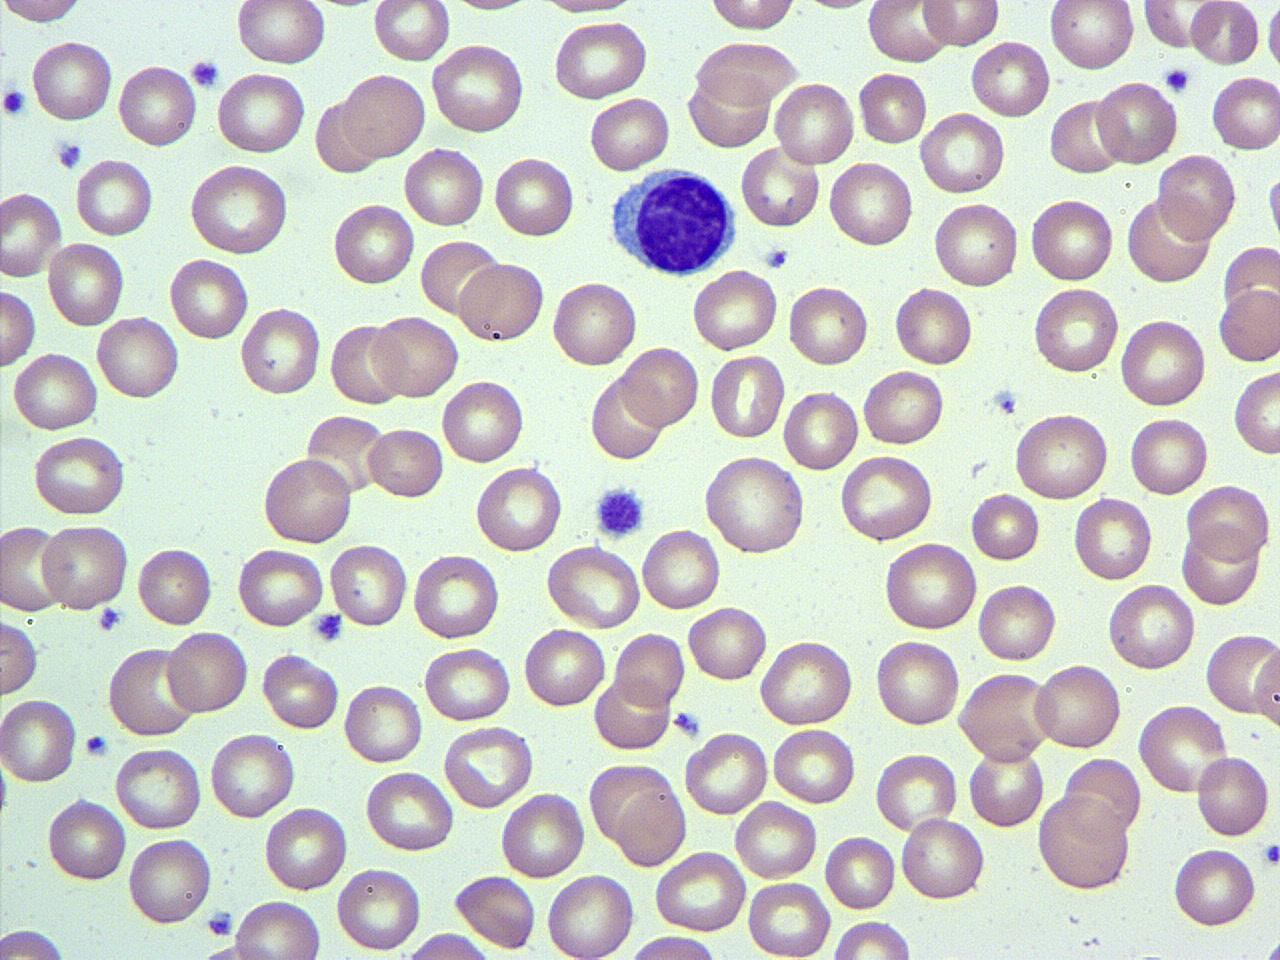Platelets: (592, 483, 646, 538), (1262, 0, 1280, 72), (51, 133, 84, 172), (1265, 165, 1280, 247), (312, 608, 344, 645), (204, 906, 237, 939), (189, 57, 222, 90), (2, 84, 31, 121), (990, 385, 1020, 417), (1162, 64, 1190, 94), (762, 244, 790, 272), (97, 604, 123, 634), (82, 732, 111, 758), (1260, 840, 1280, 868)
RBC: (703, 452, 807, 558), (1036, 790, 1134, 894), (188, 160, 292, 257), (429, 39, 529, 135), (958, 667, 1055, 765), (1136, 700, 1232, 798), (836, 452, 938, 544), (882, 538, 980, 633), (1012, 409, 1112, 502), (1029, 659, 1123, 755), (758, 636, 856, 728), (260, 453, 354, 548), (548, 276, 640, 373), (1104, 580, 1198, 674), (106, 641, 198, 737), (472, 460, 564, 556), (872, 634, 962, 732), (125, 832, 215, 930), (930, 197, 1021, 293), (38, 519, 130, 613), (1119, 314, 1209, 410), (544, 542, 644, 628), (368, 310, 461, 402), (207, 728, 299, 821), (213, 68, 308, 158), (544, 870, 638, 960), (498, 788, 588, 882), (690, 264, 782, 355), (112, 744, 205, 834), (653, 846, 750, 932), (1030, 284, 1120, 376), (411, 550, 501, 642), (826, 157, 916, 249), (262, 802, 350, 896), (588, 758, 684, 844), (1027, 195, 1117, 286), (1125, 195, 1213, 288), (440, 374, 527, 468), (30, 433, 127, 517), (340, 70, 430, 160), (9, 346, 100, 435), (440, 723, 534, 809), (682, 728, 771, 818), (917, 108, 1007, 197), (1170, 843, 1260, 932), (364, 768, 457, 854), (552, 19, 650, 100), (334, 864, 424, 952), (330, 198, 416, 290), (239, 304, 322, 399), (29, 36, 115, 127), (456, 258, 546, 344), (786, 280, 872, 370), (0, 692, 80, 788), (898, 816, 985, 904), (401, 142, 487, 231), (95, 313, 181, 402), (236, 546, 327, 630), (46, 793, 128, 886), (46, 237, 127, 331), (164, 630, 250, 718), (1094, 79, 1180, 167), (167, 254, 252, 343), (492, 152, 576, 242), (1155, 151, 1237, 243), (1072, 492, 1154, 584), (340, 680, 425, 768), (328, 540, 411, 630), (619, 342, 702, 432), (116, 60, 199, 150), (1128, 412, 1212, 500), (965, 742, 1047, 832), (640, 523, 722, 613), (861, 364, 946, 450), (772, 79, 854, 168), (893, 281, 975, 370), (420, 644, 513, 722), (73, 153, 156, 240), (1185, 482, 1273, 564), (872, 750, 960, 832), (781, 386, 861, 476), (707, 351, 786, 442), (976, 579, 1060, 664), (732, 797, 818, 880), (738, 143, 820, 230), (522, 626, 606, 710), (588, 92, 672, 176), (686, 71, 774, 151), (744, 879, 834, 957), (452, 871, 538, 952), (968, 37, 1051, 120), (684, 604, 768, 686), (770, 725, 856, 805), (1193, 752, 1271, 840), (1203, 628, 1279, 718), (135, 543, 214, 629), (1047, 0, 1137, 75), (588, 373, 662, 464), (260, 648, 340, 732), (420, 235, 500, 318), (1181, 526, 1261, 608), (233, 0, 328, 69), (331, 318, 405, 406), (592, 674, 674, 752), (822, 830, 898, 914), (0, 520, 66, 616), (614, 629, 688, 713), (366, 424, 446, 500), (1048, 96, 1122, 178), (616, 785, 688, 868), (0, 188, 64, 281), (1210, 70, 1280, 154), (856, 68, 929, 148), (865, 0, 951, 67), (233, 899, 324, 960), (968, 488, 1041, 564), (370, 0, 452, 66), (1216, 285, 1280, 365), (1189, 0, 1259, 68), (1140, 0, 1224, 53), (1232, 367, 1280, 458), (920, 0, 1000, 51), (828, 919, 916, 960), (0, 614, 41, 699), (0, 284, 39, 372), (704, 0, 800, 34), (400, 930, 502, 960), (622, 932, 726, 960), (1251, 649, 1280, 737), (0, 0, 86, 29), (0, 925, 71, 960)
WBC: (602, 160, 740, 278)
